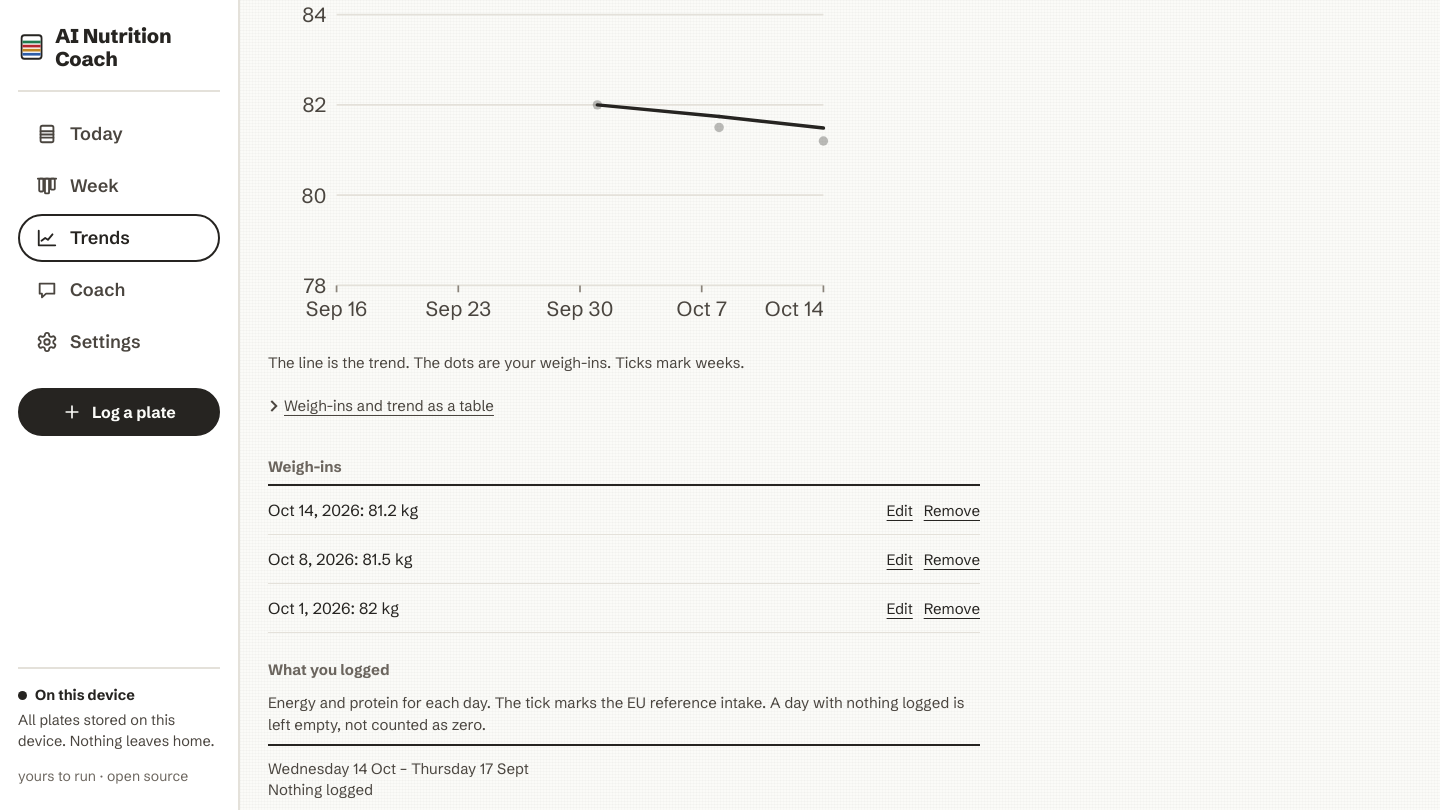
ProgressScreen: the trend in words › a week of weigh-ins: lower than a week ago, never a verdict
(page scrolled)
Click the heading "Weigh-ins and trend as a table": {"x": 380, "y": 405} top-left (266, 396), bottom-right (494, 415)
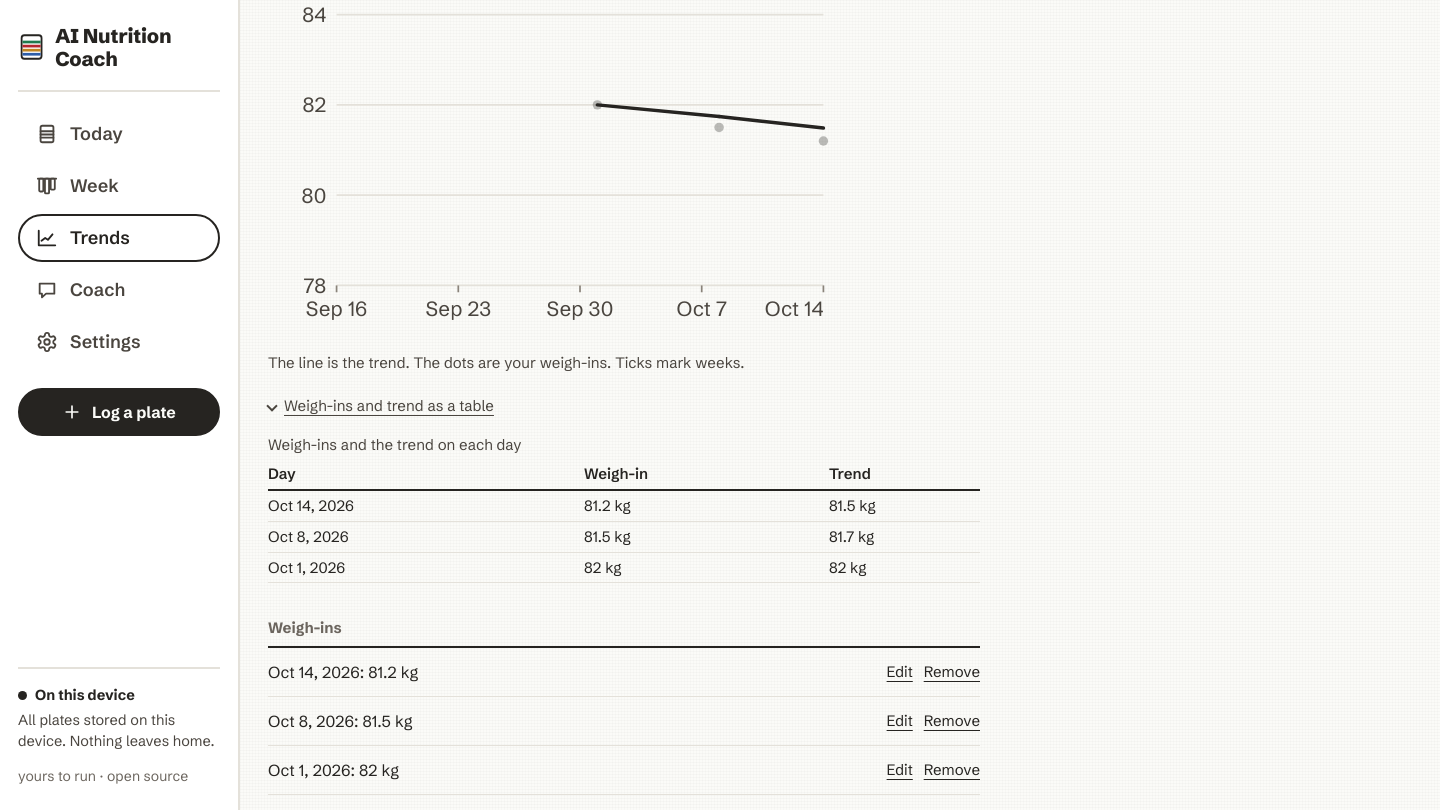
Expected: the number of rows is 4, top-left (268, 459), bottom-right (980, 490); top-left (268, 490), bottom-right (980, 522); top-left (268, 521), bottom-right (980, 552); top-left (268, 552), bottom-right (980, 583)
Expected: the column heading "Oct 14, 2026" is shown, top-left (268, 490), bottom-right (584, 522)
